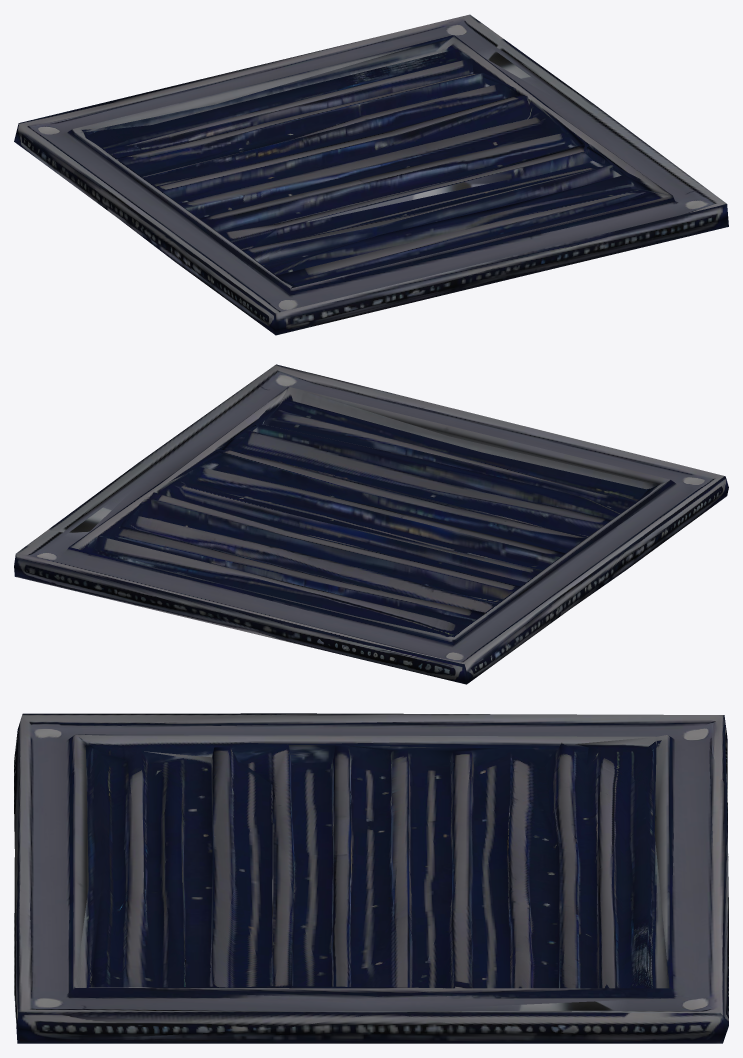
File: drain+grate+3d+model.obj
3 renders of one model, top to bottom at view 1: azimuth 30°, elevation 25°; view 2: azimuth 150°, elevation 25°; view 3: azimuth 270°, elevation 25°, orthographic. The views are drawn at different scales.
Visible parts, largest first — view 1: tripo_node_72ef315e-9238-450d-9eca-a4f03a4f4b65; view 2: tripo_node_72ef315e-9238-450d-9eca-a4f03a4f4b65; view 3: tripo_node_72ef315e-9238-450d-9eca-a4f03a4f4b65.
Boxes of the visible parts, bbox=[...] form: tripo_node_72ef315e-9238-450d-9eca-a4f03a4f4b65: bbox=[14, 14, 728, 335]; tripo_node_72ef315e-9238-450d-9eca-a4f03a4f4b65: bbox=[14, 364, 728, 684]; tripo_node_72ef315e-9238-450d-9eca-a4f03a4f4b65: bbox=[14, 713, 728, 1043].
Bounding box in the file's own units: 1 × 0.0527 × 1.
1 material, 1 textured.
